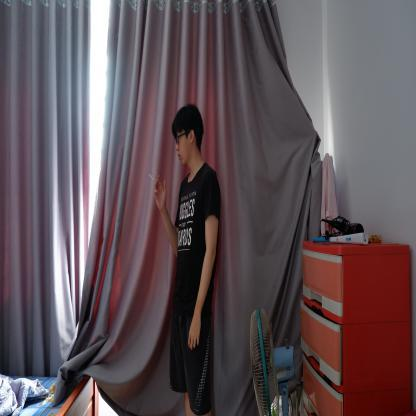cigarette: (148, 173, 156, 184)
person: (155, 102, 223, 415)
